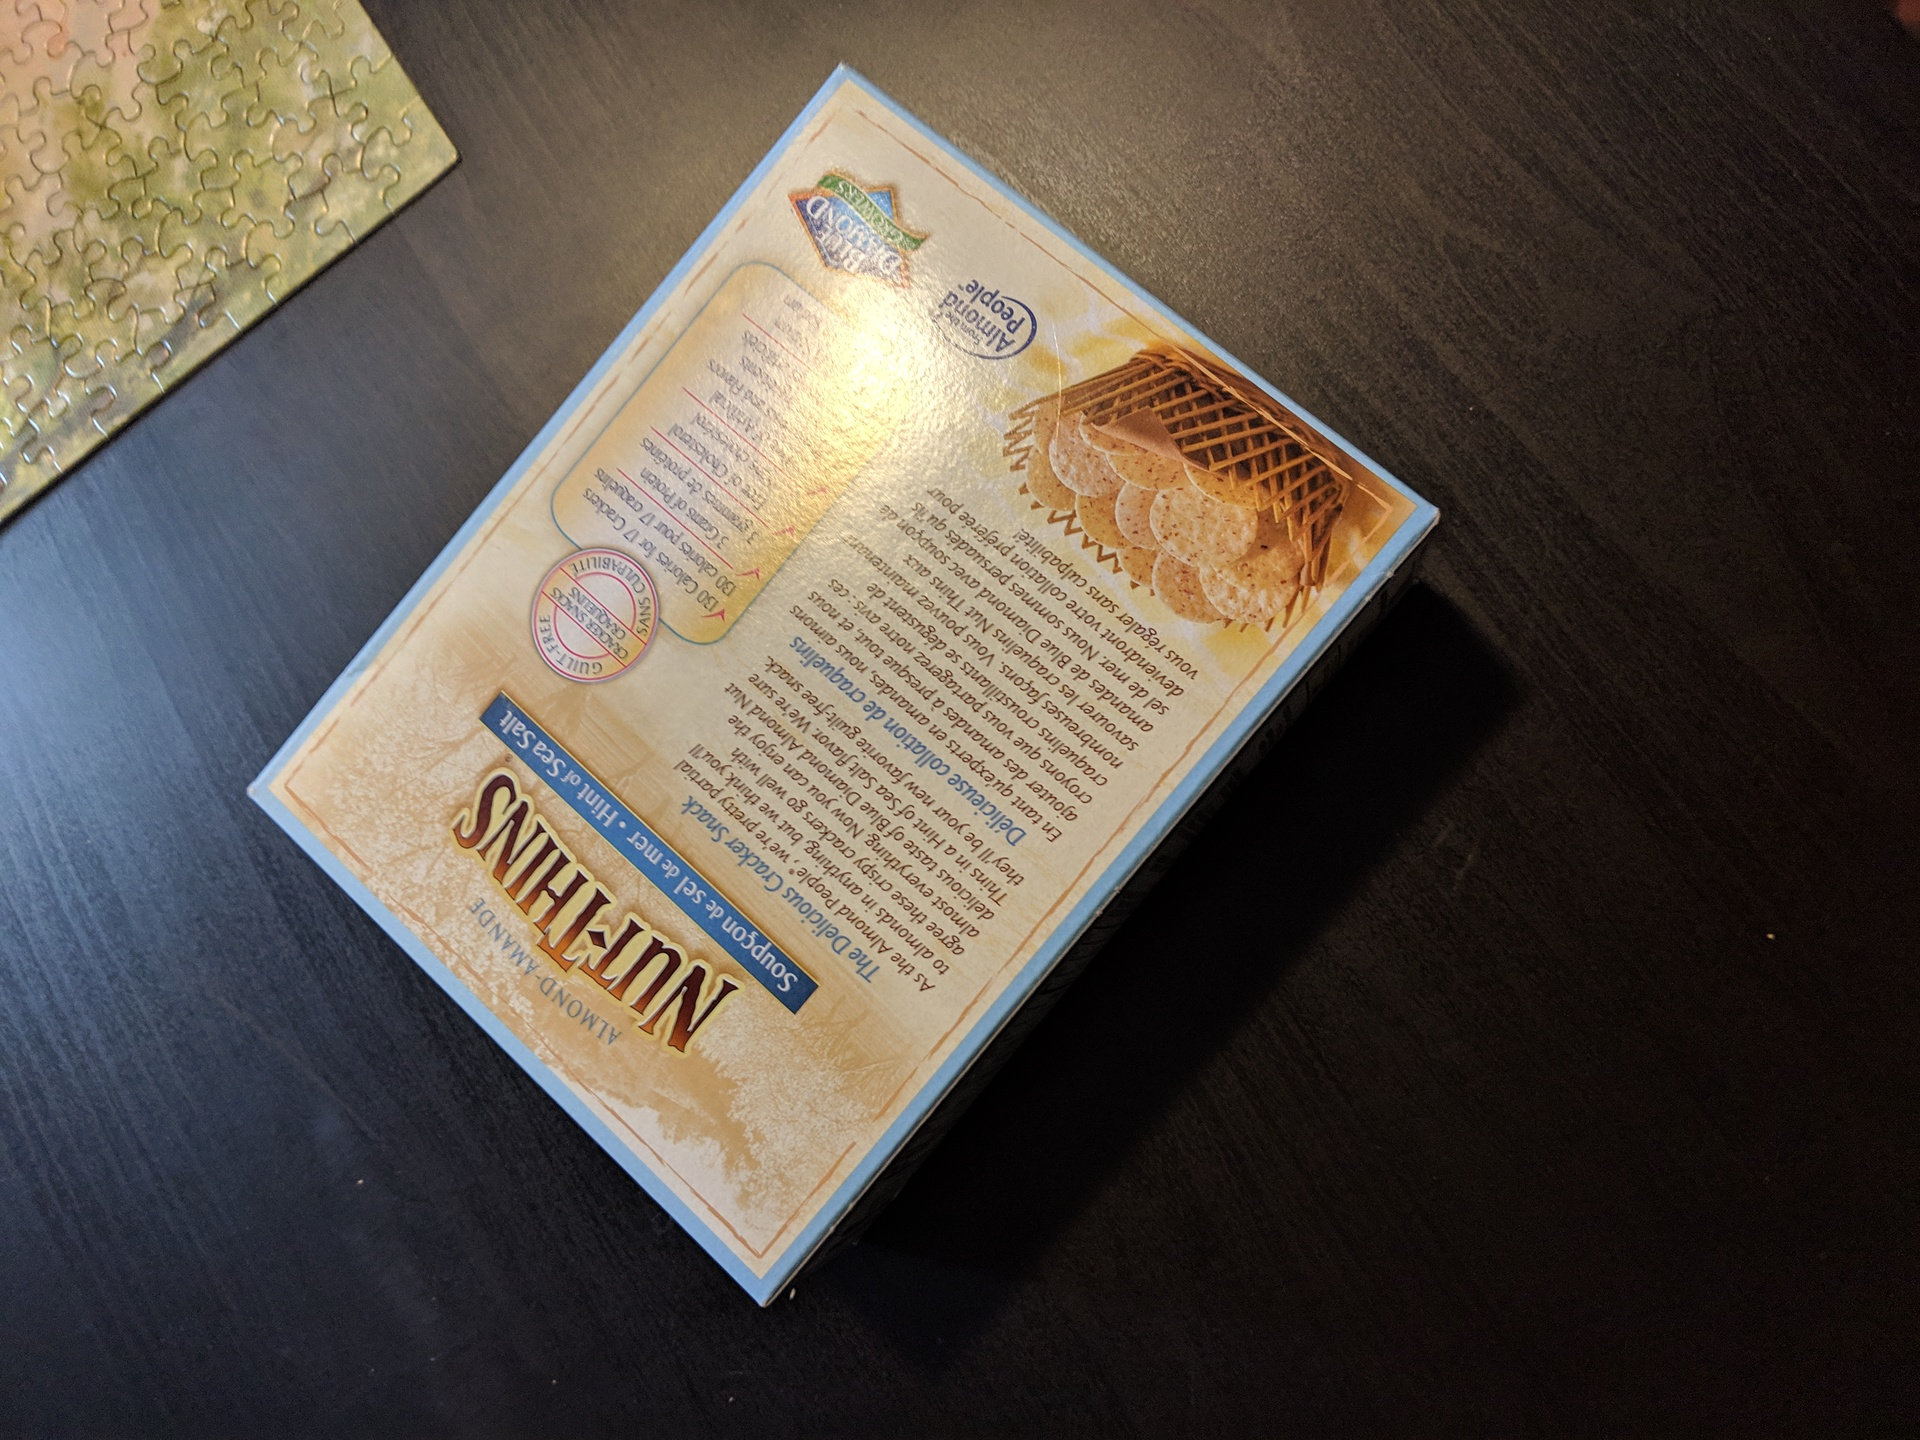blue_diamond_nut_thins_almond_seasalt: (395, 154, 1330, 1153)
